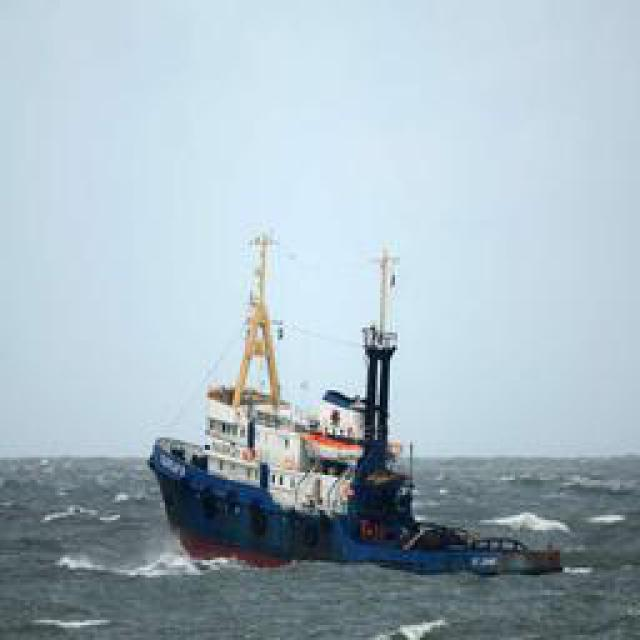Ship: (155, 214, 518, 574)
